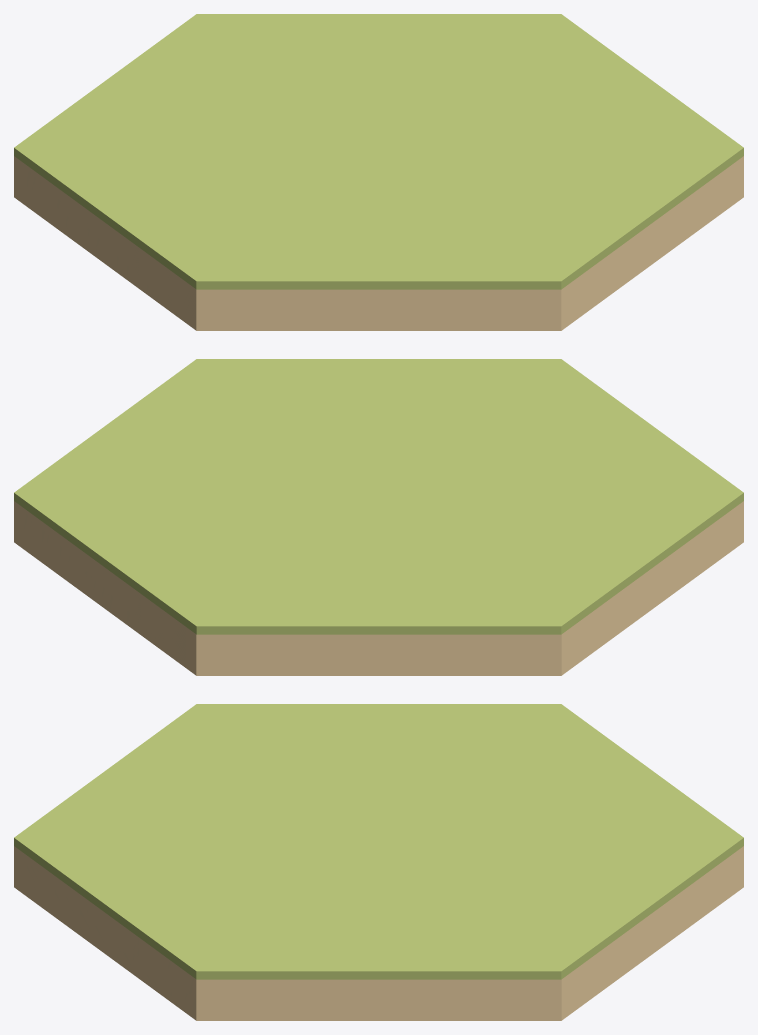
File: Grass.fbx
3 views of the same model, one above another, from view 1: azimuth 30°, elevation 25°; view 2: azimuth 150°, elevation 25°; view 3: azimuth 270°, elevation 25° (orthographic).
Parts seen in each view (by area): view 1: Grass; view 2: Grass; view 3: Grass.
Part boxes in pixels (x1,y1,x2,y2): Grass: (14,14,743,330); Grass: (14,359,743,675); Grass: (14,704,743,1020).
Bounding box in the file's own units: 173 × 15 × 200.
